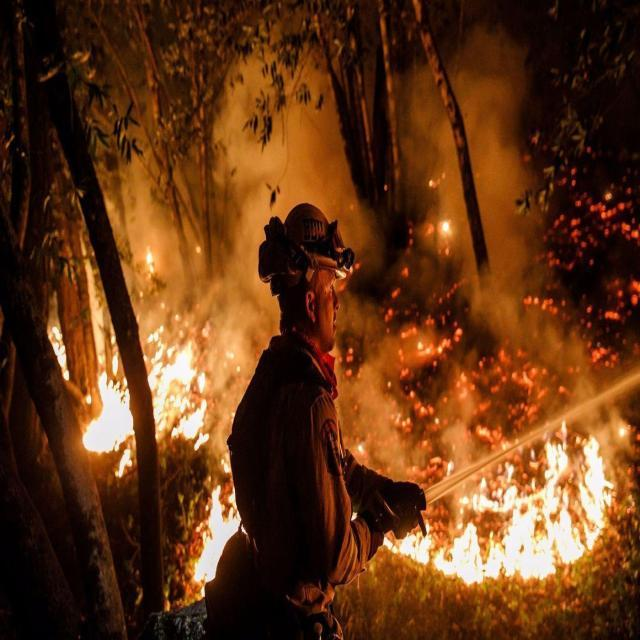Fire: (383, 420, 614, 586), (146, 325, 210, 451), (82, 332, 134, 480), (192, 459, 248, 596), (48, 324, 70, 384), (146, 244, 154, 274)
Smoke: (81, 10, 634, 528)
